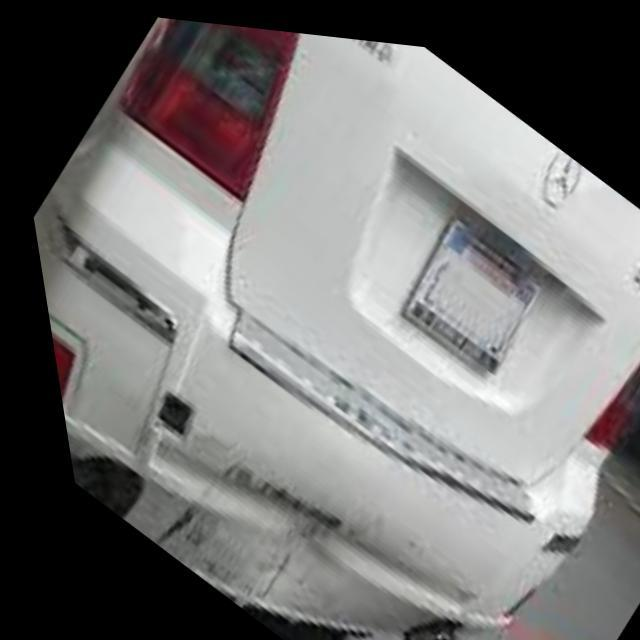dent: (126, 377, 412, 605)
